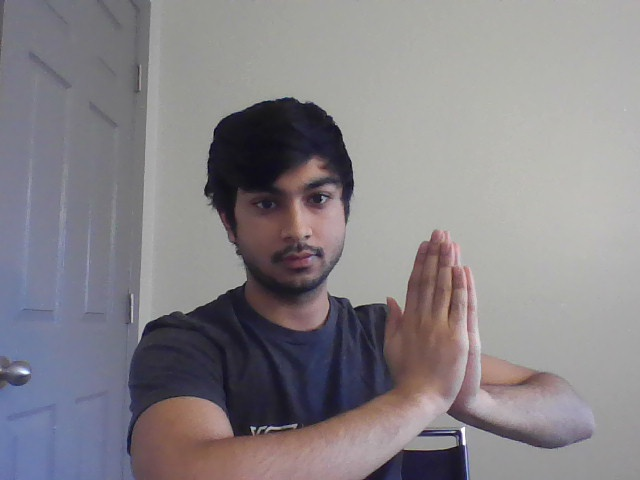start: (380, 222, 497, 428)
